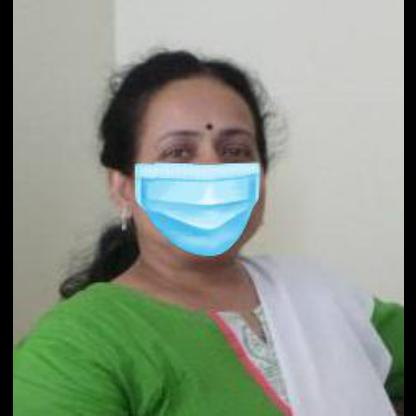Surgical Mask: (136, 106, 264, 256)
